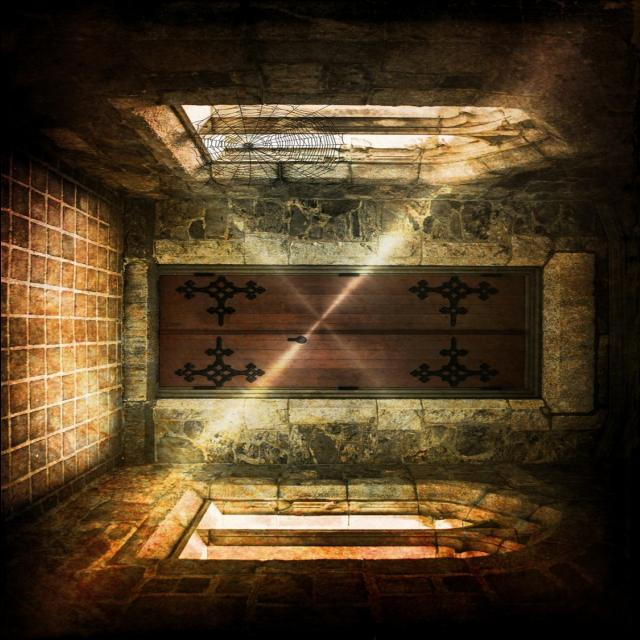close: (148, 268, 536, 397)
